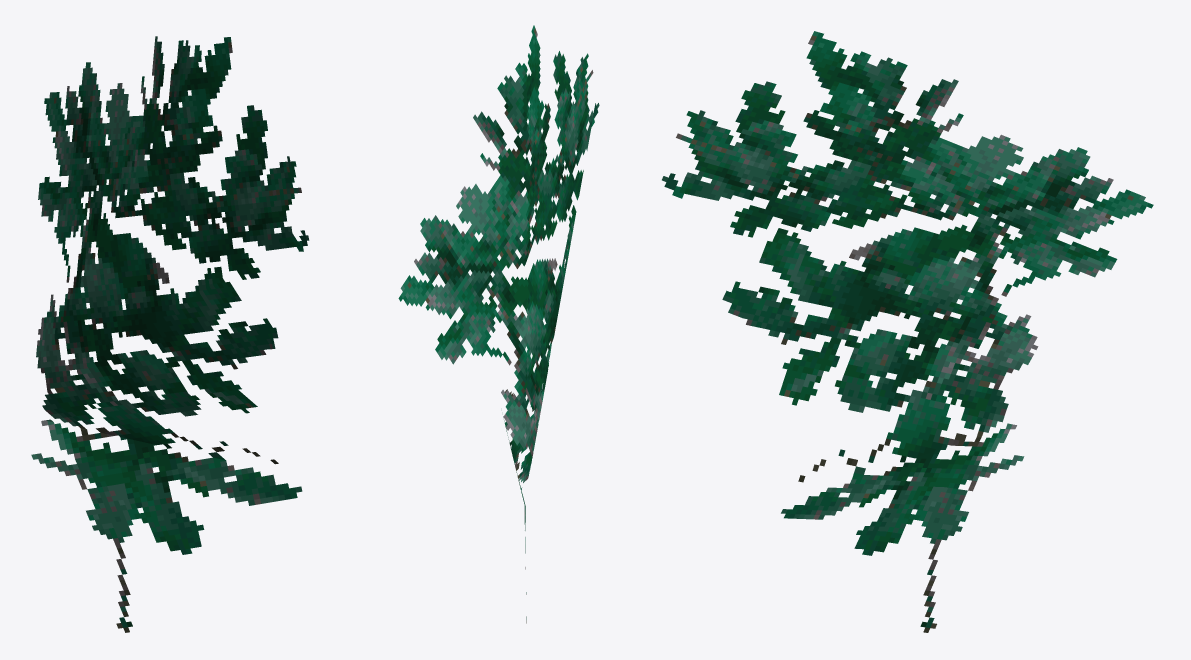
File: Green Bush 3.glb
3 views of the same model, side by side, from view 1: azimuth 30°, elevation 25°; view 2: azimuth 150°, elevation 25°; view 3: azimuth 270°, elevation 25° (orthographic). The views are drawn at different scales.
Visible parts, largest first — view 1: Grass.001; view 2: Grass.001; view 3: Grass.001.
Part boxes in pixels (x1,y1,x2,y2): Grass.001: (31,36,309,632); Grass.001: (398,25,599,623); Grass.001: (662,31,1153,632).
Size of the model in its own units: 1.52 by 5.21 by 3.86.
1 material, 1 textured.
